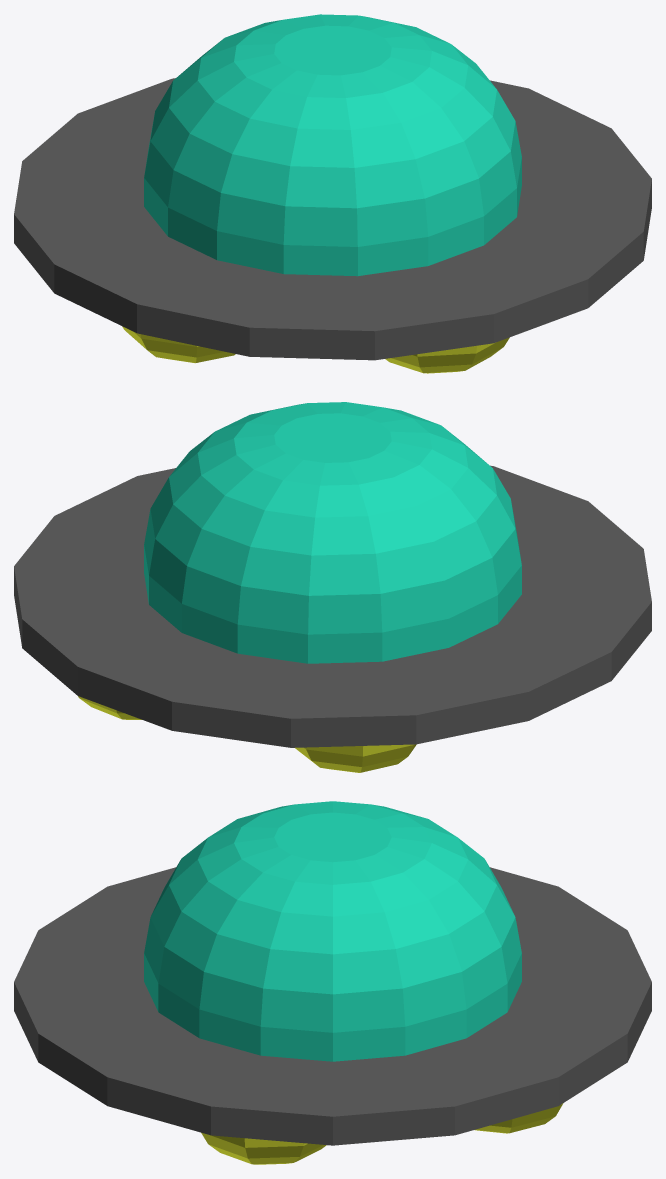
File: foundit.glb
The picture shows the model from 3 angles, top to bottom: view 1: azimuth 30°, elevation 25°; view 2: azimuth 150°, elevation 25°; view 3: azimuth 270°, elevation 25°; orthographic projection.
Visible parts, largest first — view 1: foundit; view 2: foundit; view 3: foundit.
Boxes of the visible parts, box(x1,y1,x2,y2) form: foundit: box(14, 14, 651, 373); foundit: box(14, 402, 651, 772); foundit: box(14, 801, 651, 1164).
Bounding box in the file's own units: 4 × 1.6 × 4.
